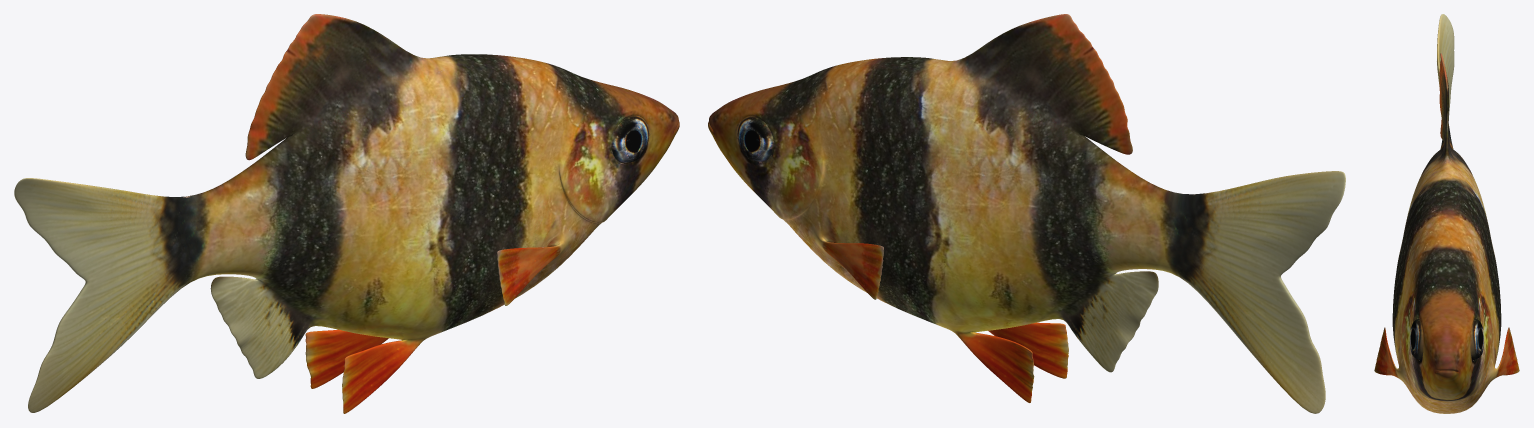
Rendered from peixe3.fbx.
3 renders of one model, left to right at view 1: azimuth 30°, elevation 25°; view 2: azimuth 150°, elevation 25°; view 3: azimuth 270°, elevation 25°, orthographic. The views are drawn at different scales.
Visible parts, largest first — view 1: Default; view 2: Default; view 3: Default.
Boxes of the visible parts, <box> form: Default: <box>14,14,679,413</box>; Default: <box>708,14,1345,413</box>; Default: <box>1374,14,1519,413</box>.
Bounding box in the file's own units: 2.88 × 1.64 × 0.6454.
Materials: 1 (1 with a texture image).
